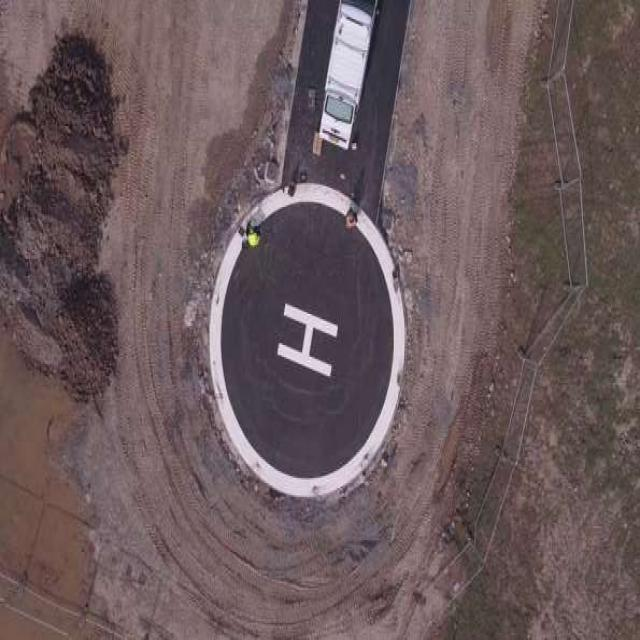helipad: (203, 172, 409, 503)
